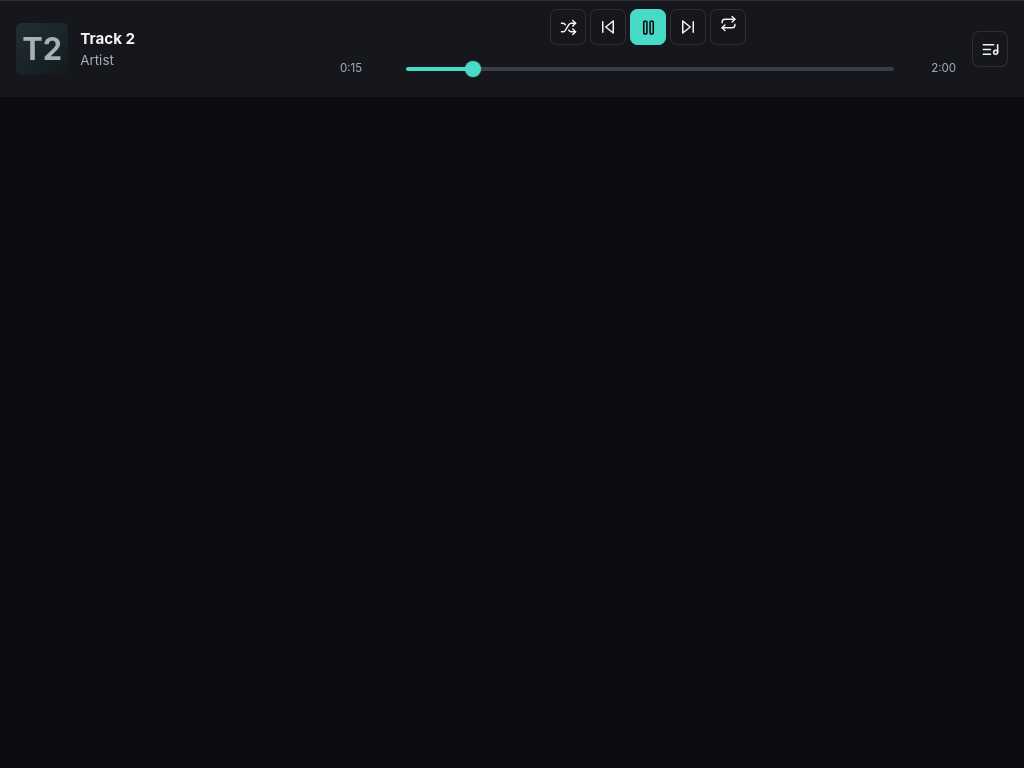
Test: QueuePane › clears upcoming items without removing history or the current item
This screenshot has width=1024, height=768.
Step 1. Click the button named "Open queue" → (990, 49), box [972, 31, 1008, 67]
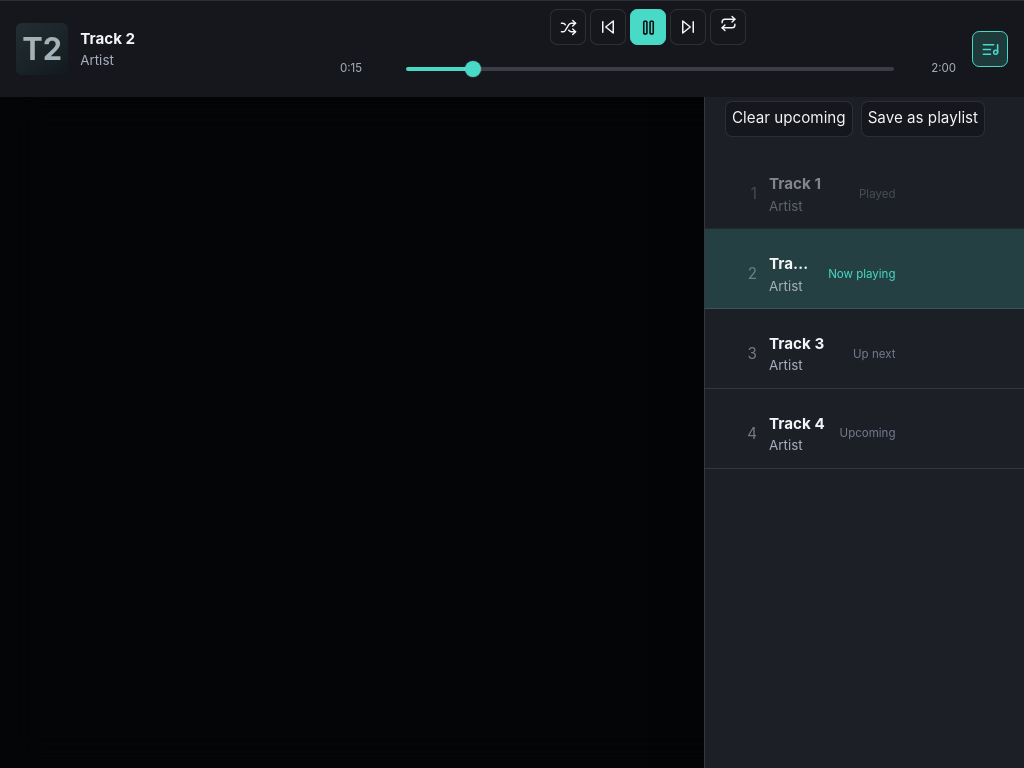
Step 2. Click the button "Clear upcoming" → (789, 119), box [725, 101, 853, 137]
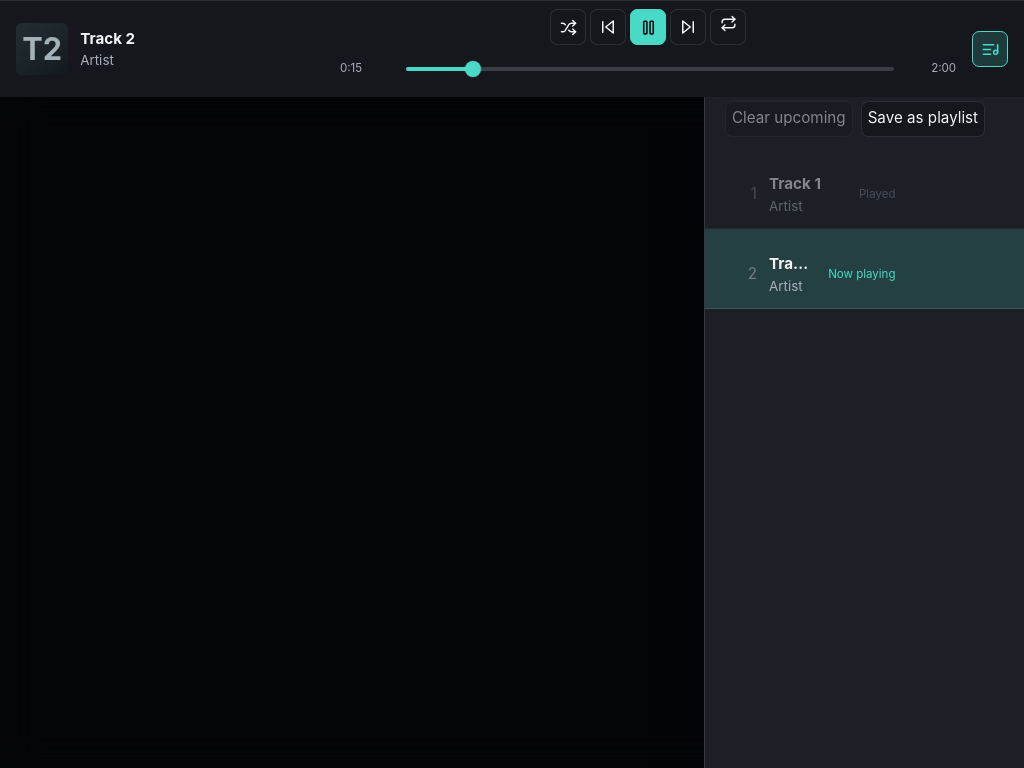
Now the text "Track 1" is shown, box [769, 174, 821, 193]
Now the text "Track 3" is gone
Now the button "Clear upcoming" is disabled, box [725, 101, 853, 137]
